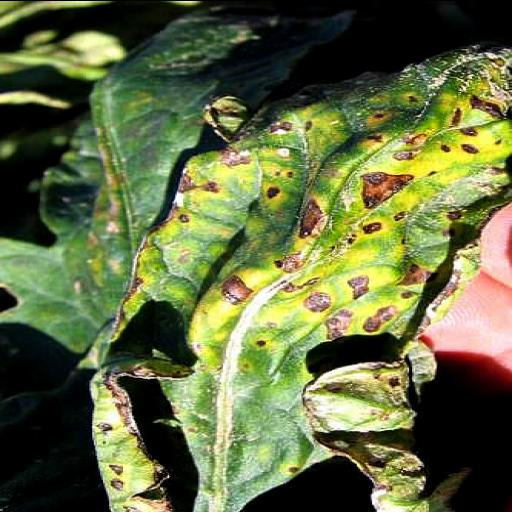disease_tomato: (72, 35, 512, 512)
